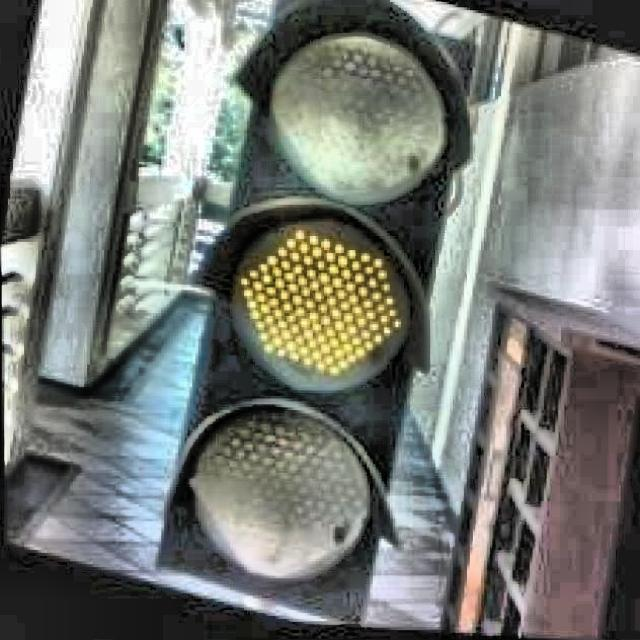yellow: (166, 28, 452, 580)
